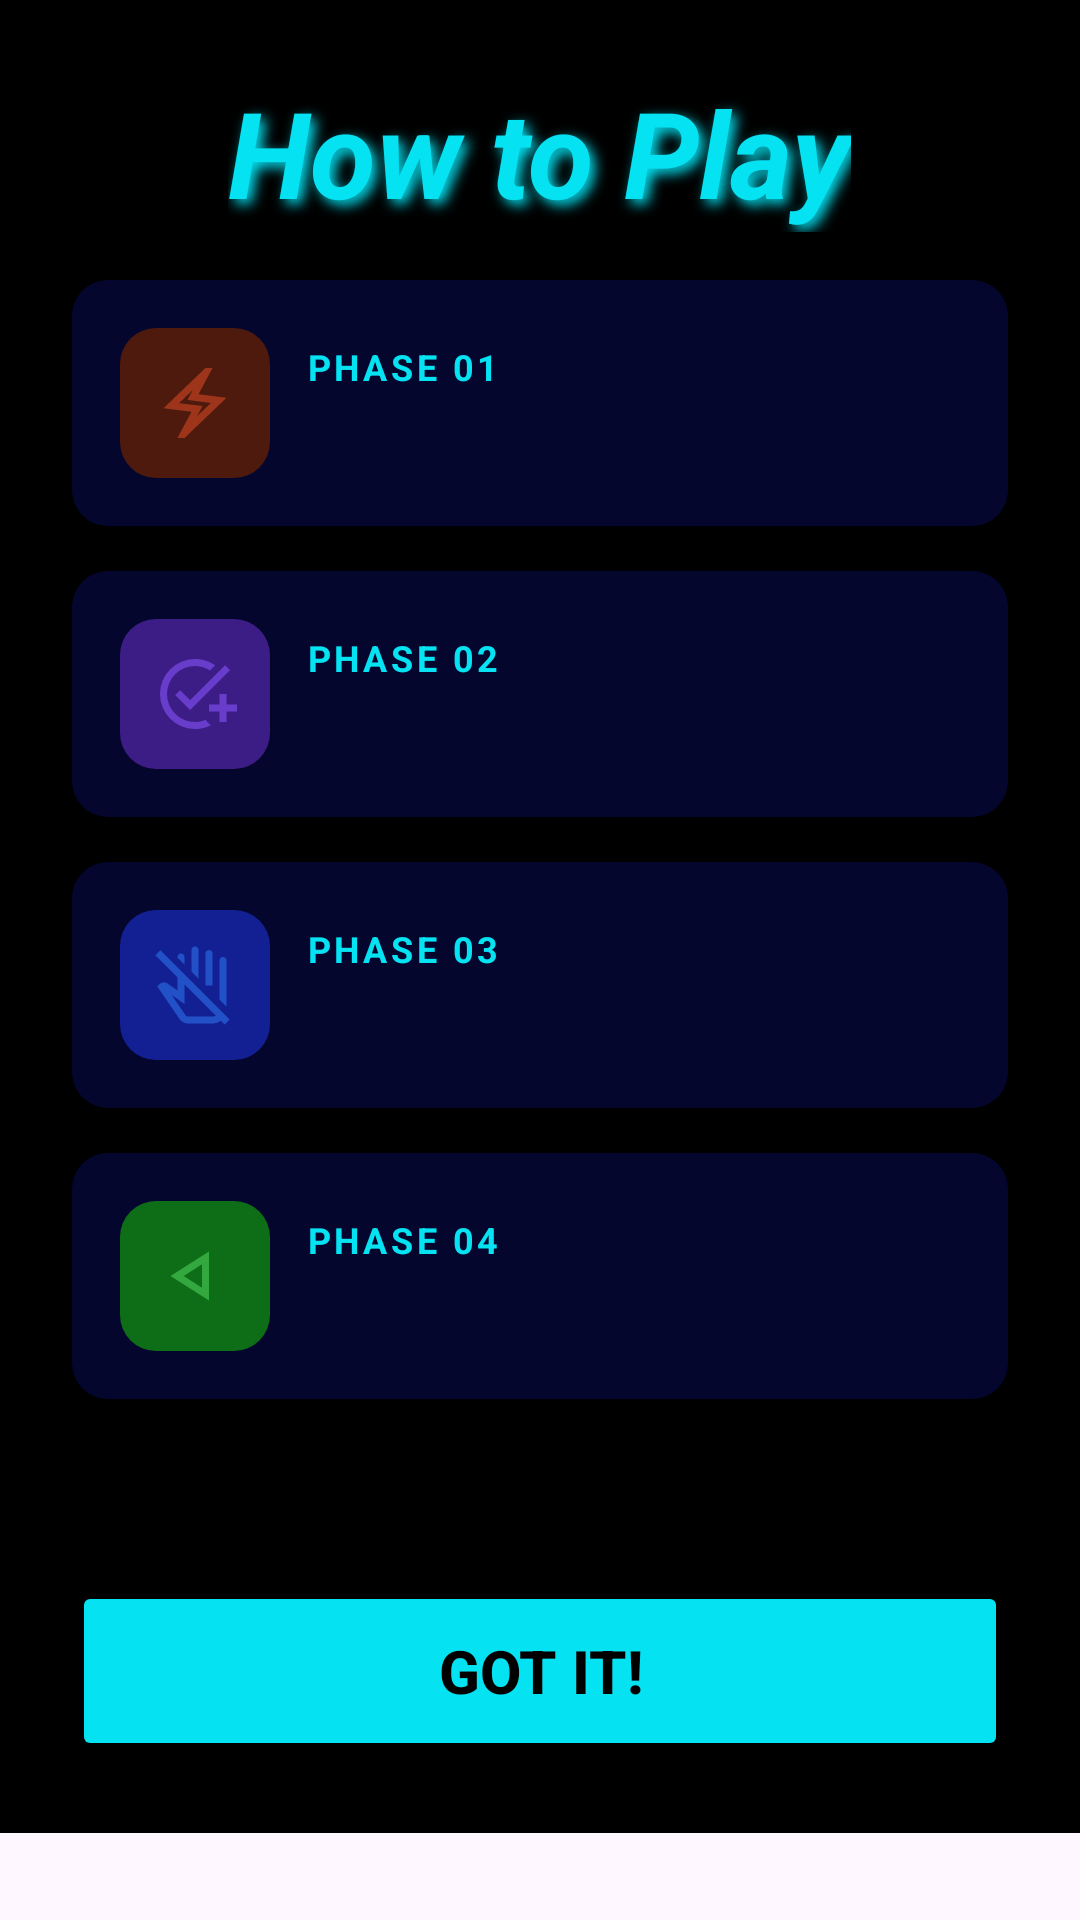

Icon bounding boxes for this 1080px x 1920px phone screenshot, format detection(x1, y1, x2, y2):
back: detection(171, 1252, 209, 1300)
correct: detection(160, 659, 237, 729)
